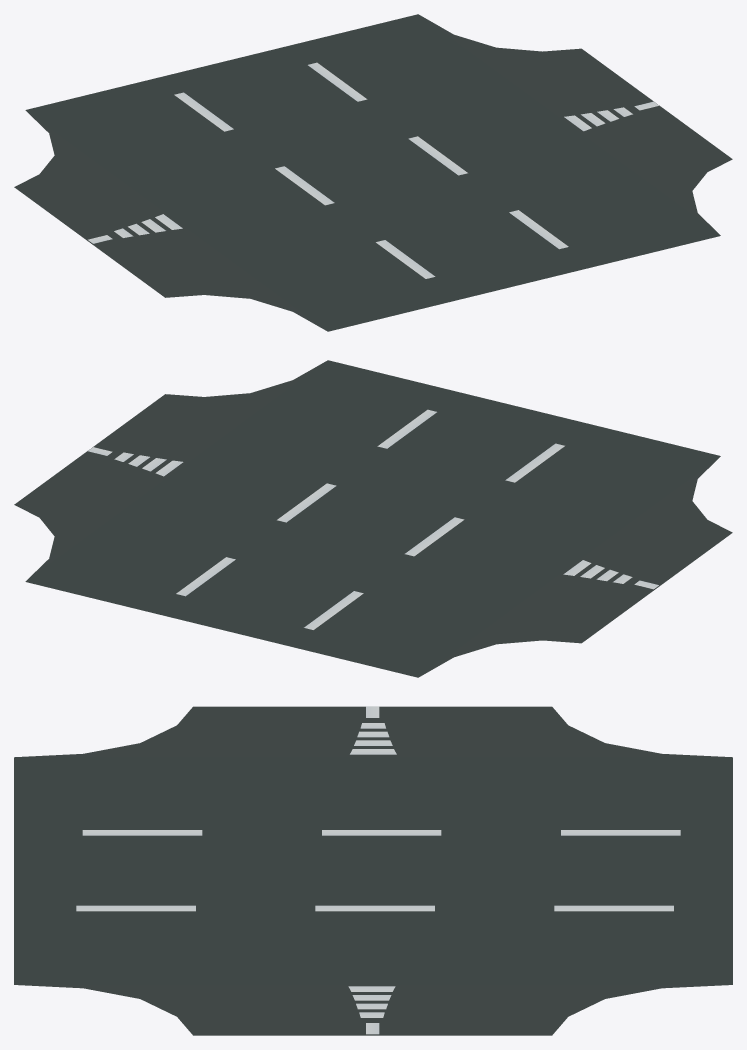
File: Road_2_311.fbx
3 renders of one model, top to bottom at view 1: azimuth 30°, elevation 25°; view 2: azimuth 150°, elevation 25°; view 3: azimuth 270°, elevation 25°, orthographic. The views are drawn at different scales.
Parts seen in each view (by area): view 1: Road_2_311; view 2: Road_2_311; view 3: Road_2_311.
Boxes of the visible parts, x1,y1,x2,y2 form: Road_2_311: (14, 14, 732, 331); Road_2_311: (14, 360, 732, 677); Road_2_311: (14, 706, 732, 1035).
Bounding box in the file's own units: 1952 × 1.66 × 1804.
